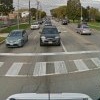crosswalk: (0, 57, 99, 77)
